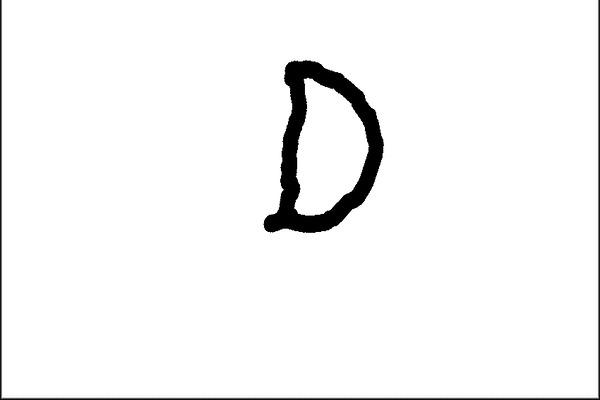D: (259, 54, 387, 238)
